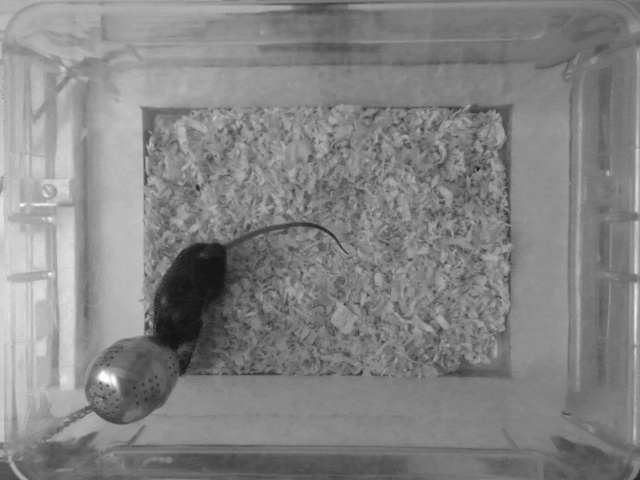mice: (154, 220, 353, 393)
